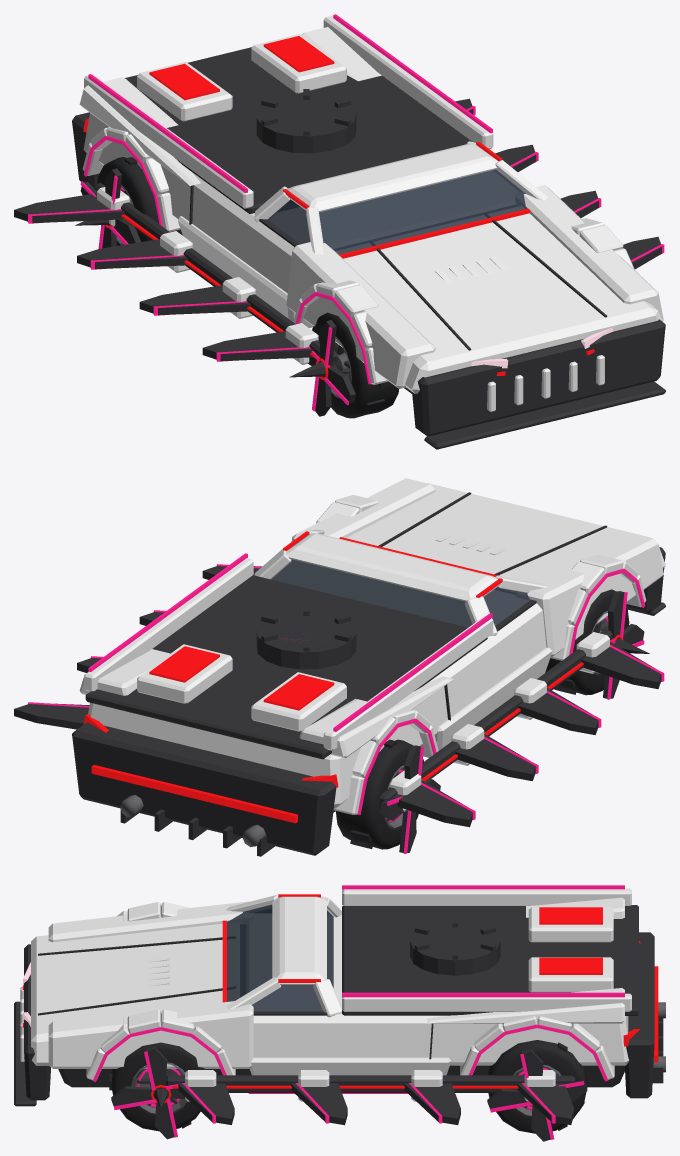
The model's file is spiker_phone.glb.
3 renders of one model, top to bottom at view 1: azimuth 30°, elevation 25°; view 2: azimuth 150°, elevation 25°; view 3: azimuth 270°, elevation 25°, orthographic. The views are drawn at different scales.
Parts seen in each view (by area): view 1: spiker_body, blades_L_mesh, wheel_FL_mesh, wheel_RL_mesh, blades_R_mesh; view 2: spiker_body, blades_L_mesh, wheel_RL_mesh, wheel_FL_mesh, blades_R_mesh; view 3: spiker_body, blades_R_mesh, wheel_FR_mesh, wheel_RR_mesh.
Boxes of the visible parts, <box> form: spiker_body: <box>72,14,665,449</box>; blades_L_mesh: <box>14,183,320,364</box>; wheel_FL_mesh: <box>289,312,398,418</box>; wheel_RL_mesh: <box>75,157,182,248</box>; blades_R_mesh: <box>455,98,664,269</box>; spiker_body: <box>72,478,665,856</box>; blades_L_mesh: <box>379,629,664,827</box>; wheel_RL_mesh: <box>335,739,440,853</box>; wheel_FL_mesh: <box>545,589,649,699</box>; blades_R_mesh: <box>14,564,262,729</box>; spiker_body: <box>14,885,665,1106</box>; blades_R_mesh: <box>165,1070,575,1125</box>; wheel_FR_mesh: <box>109,1042,209,1139</box>; wheel_RR_mesh: <box>487,1040,587,1141</box>.
Bounding box in the file's own units: 3.35 × 1.09 × 4.61.
Materials: 6 (1 with a texture image).
